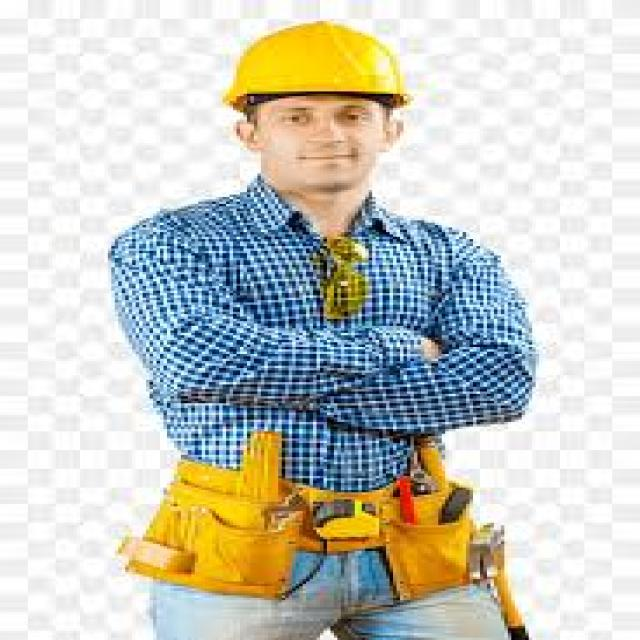Safety-Helmet: (212, 14, 418, 113)
